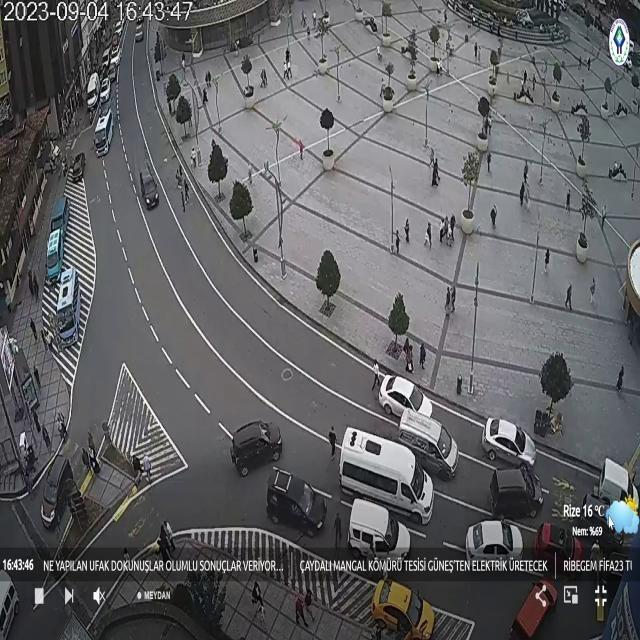Bus: (94, 110, 115, 156)
Car: (393, 407, 458, 477), (370, 577, 435, 640), (347, 499, 413, 560), (266, 469, 326, 535), (228, 416, 286, 478), (508, 578, 557, 638), (489, 466, 543, 518), (40, 458, 78, 531), (481, 417, 537, 466), (466, 519, 526, 564), (536, 523, 586, 573), (378, 375, 433, 419), (594, 456, 640, 506), (0, 571, 19, 635), (139, 172, 160, 210), (86, 73, 100, 109), (99, 78, 112, 104), (101, 47, 112, 69), (135, 20, 144, 42), (136, 13, 144, 25)
Van: (339, 428, 436, 523)
